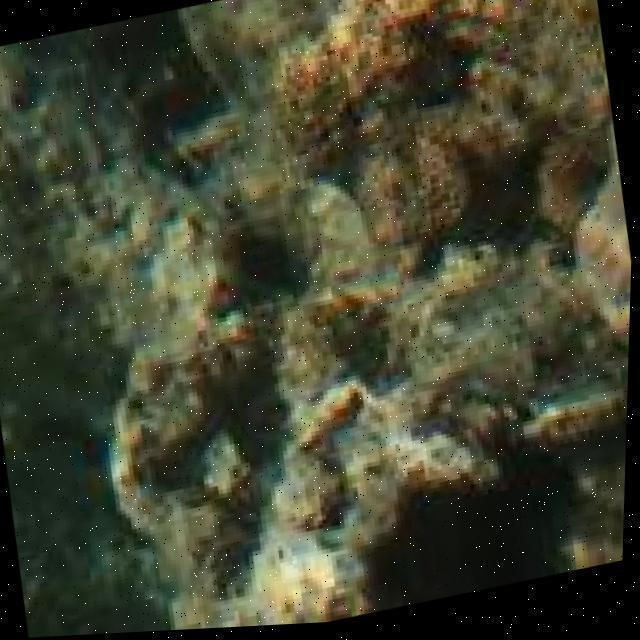Dead Coral: (263, 2, 558, 235), (105, 307, 349, 566)
